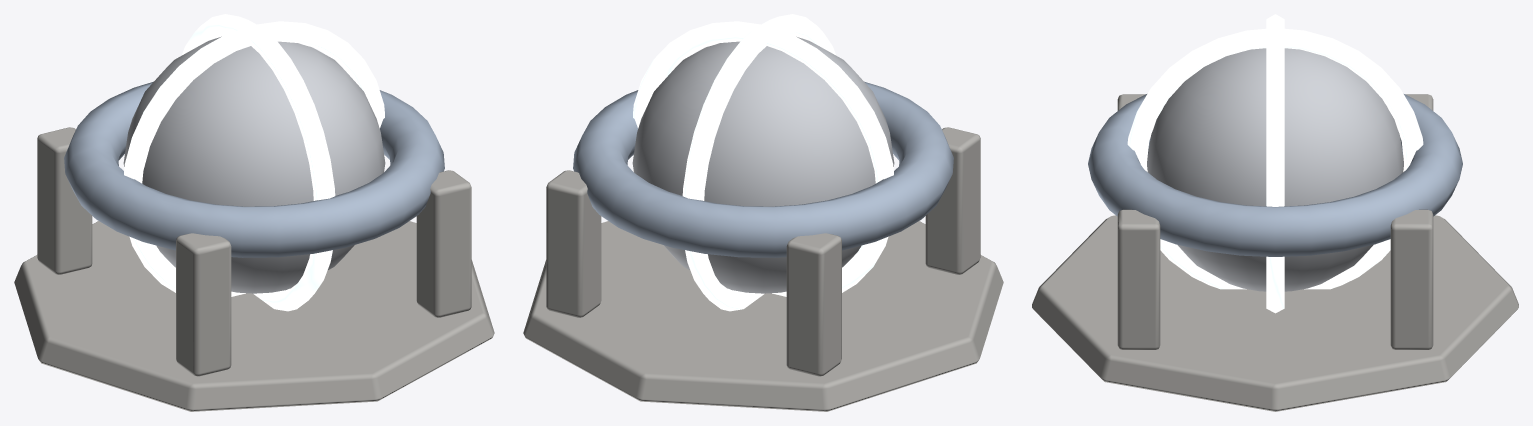
File: fusionhub.glb
The picture shows the model from 3 angles, left to right: view 1: azimuth 30°, elevation 25°; view 2: azimuth 150°, elevation 25°; view 3: azimuth 270°, elevation 25°; orthographic projection.
Parts seen in each view (by area): view 1: fusionhub; view 2: fusionhub; view 3: fusionhub.
Boxes of the visible parts, x1,y1,x2,y2 form: fusionhub: (14,14,494,411); fusionhub: (523,14,1003,411); fusionhub: (1032,14,1518,411).
Size of the model in its own units: 0.9082 by 0.58 by 0.9082.
